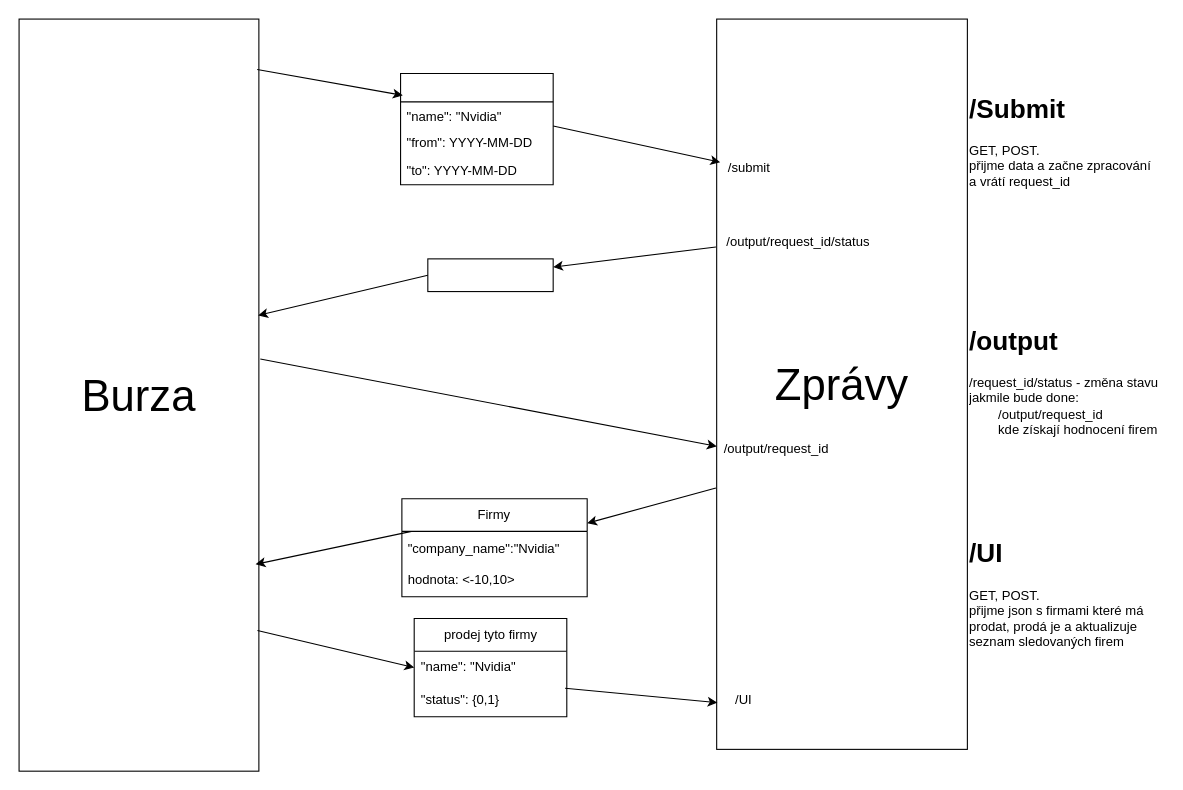
Image size: 1183x790. Some labels were removed from this diagram. Each missing label, with the box of its shape:
vyhodnoť akcie:: (399, 72, 553, 185)
{process ing, done}: (427, 258, 553, 292)
